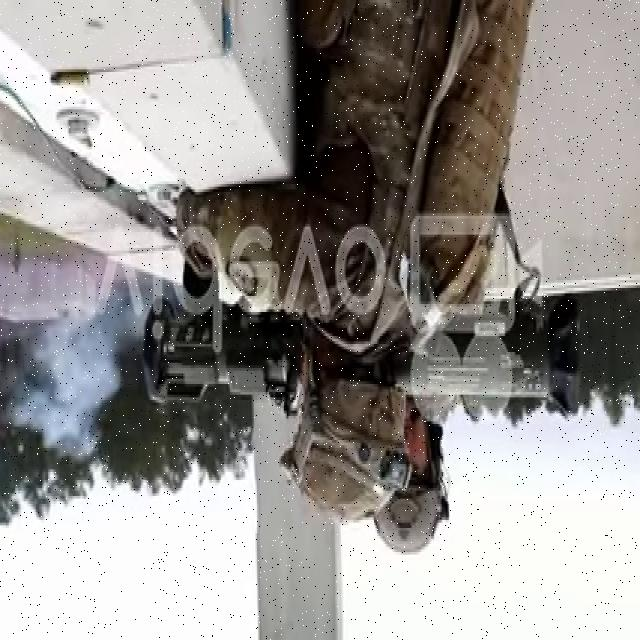bazooka: (139, 291, 588, 417)
